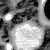node 1: (10, 22, 45, 50)
